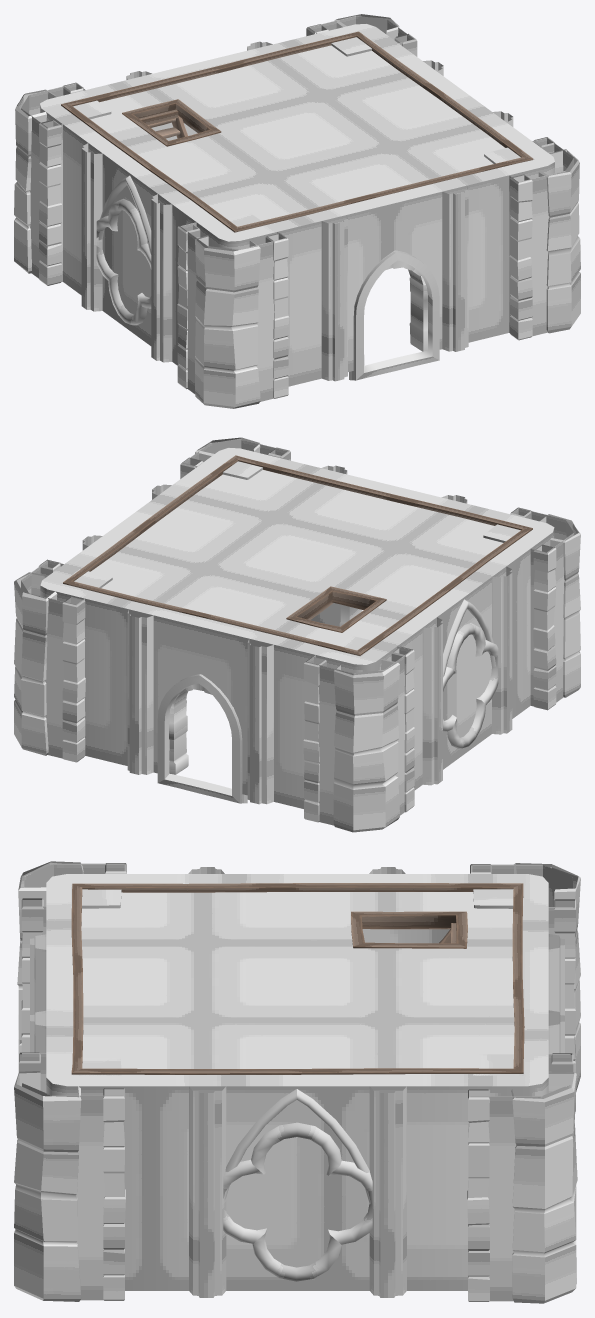
The model's file is SM_TowerF_Mid2Door.fbx.
3 views of the same model, one above another, from view 1: azimuth 30°, elevation 25°; view 2: azimuth 150°, elevation 25°; view 3: azimuth 270°, elevation 25° (orthographic). The views are drawn at different scales.
Parts seen in each view (by area): view 1: SM_TowerF_Mid2Door_LOD0; view 2: SM_TowerF_Mid2Door_LOD0; view 3: SM_TowerF_Mid2Door_LOD0.
Boxes of the visible parts, bbox=[...] form: SM_TowerF_Mid2Door_LOD0: bbox=[14, 14, 580, 408]; SM_TowerF_Mid2Door_LOD0: bbox=[14, 437, 580, 832]; SM_TowerF_Mid2Door_LOD0: bbox=[14, 861, 580, 1303].
Bounding box in the file's own units: 1129 × 1129 × 494.
